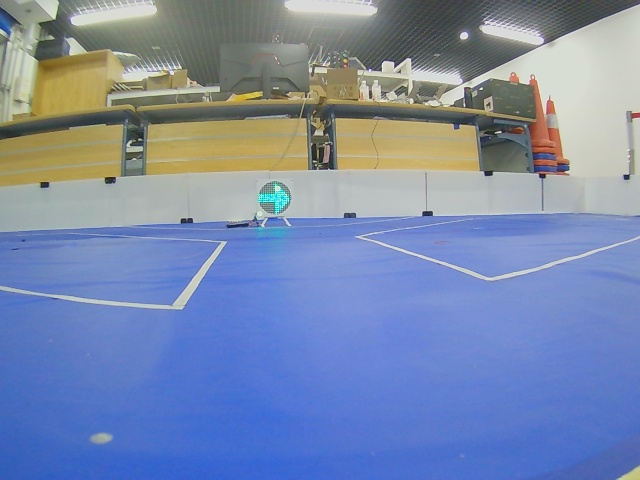right_green: (257, 181, 292, 215)
